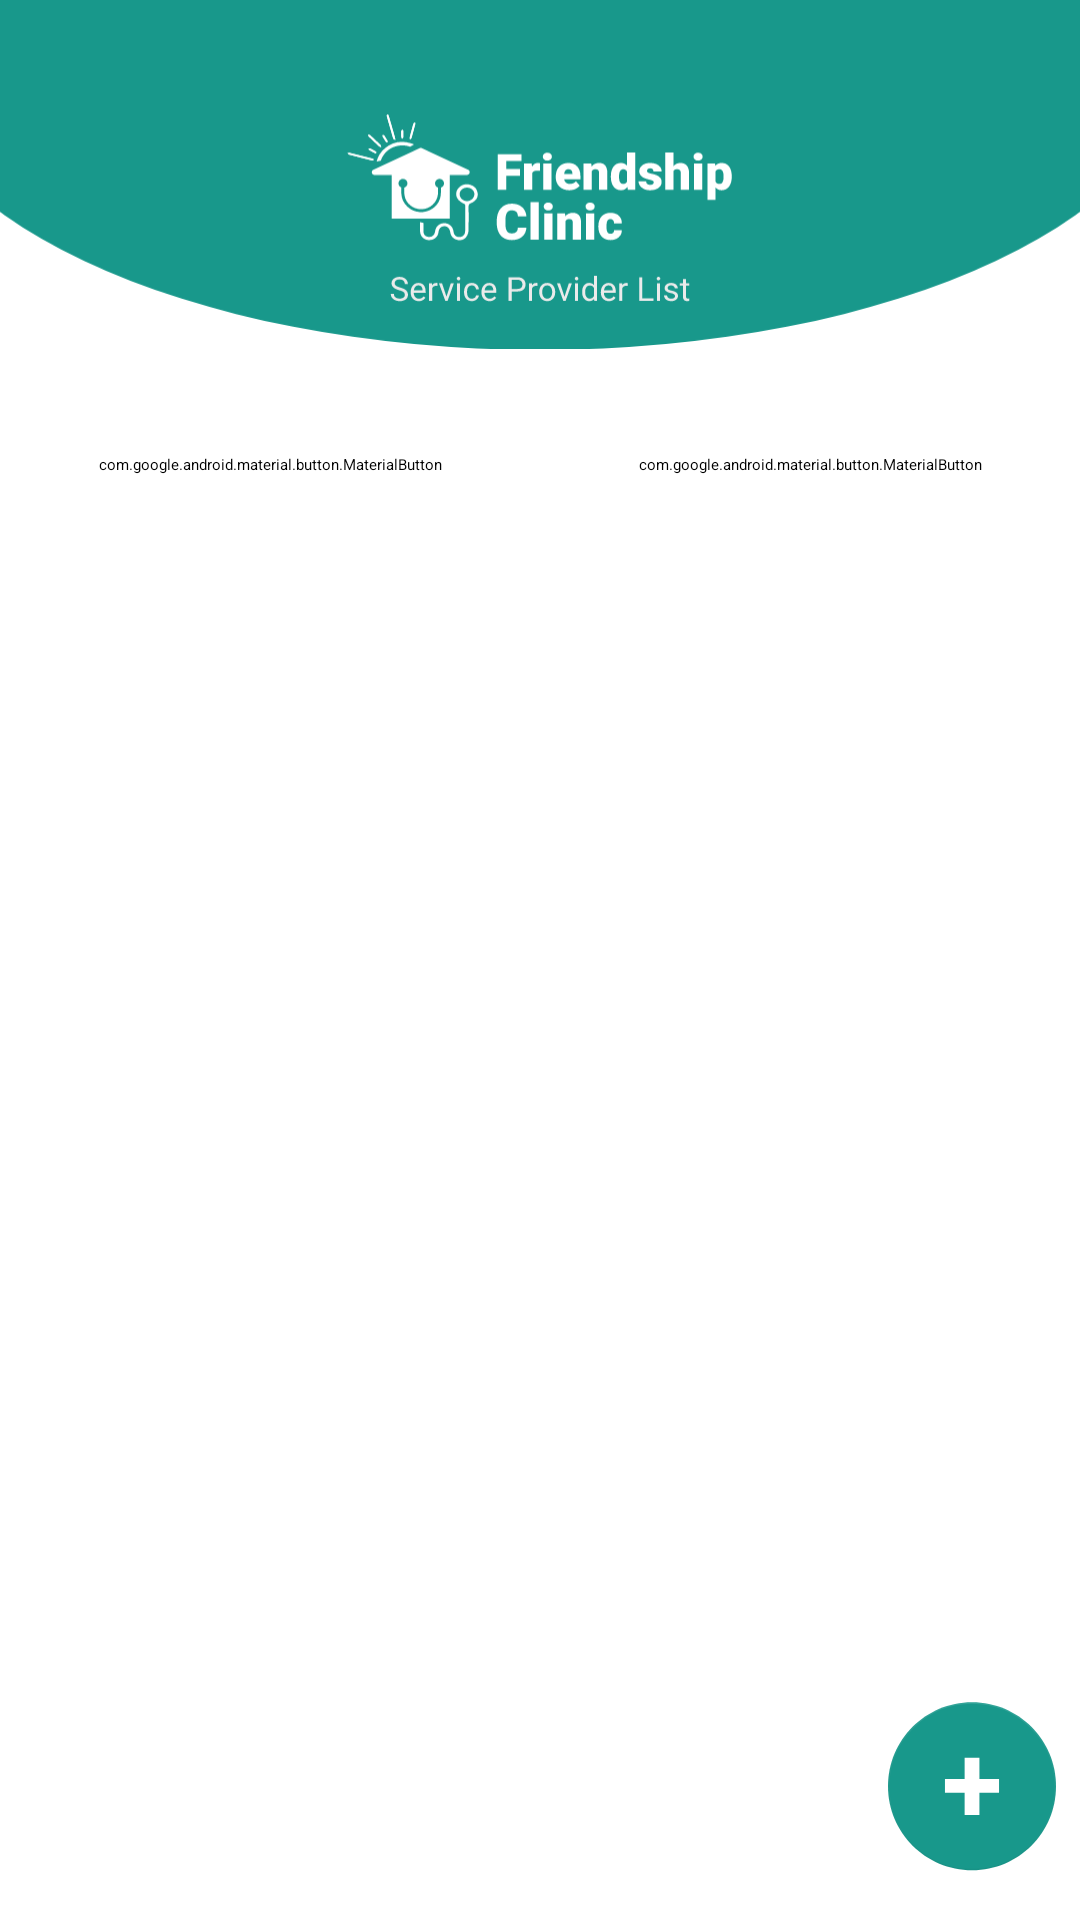

Where icons sit on this 1080px×1920px app screen, as (x1, y1, x2, y2):
add: (888, 1702, 1056, 1871)
